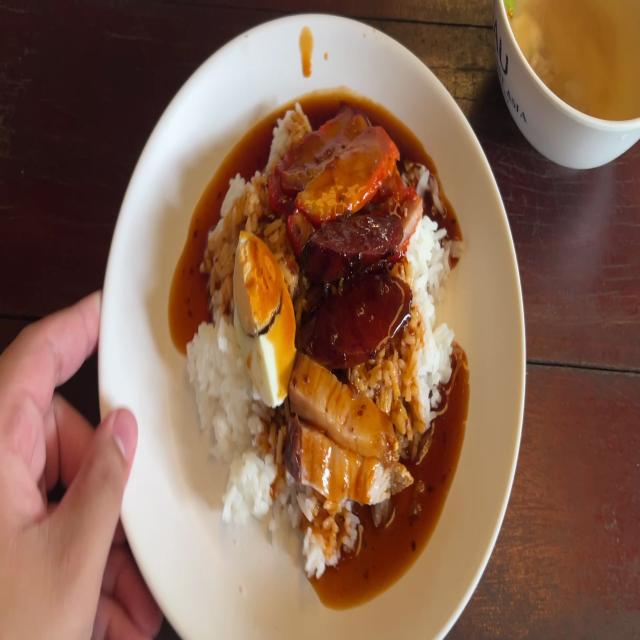red_pork_and_crispy_pork: (239, 230, 289, 404)
stir_fried_basil: (307, 218, 410, 355), (318, 271, 416, 350), (308, 218, 404, 268)
